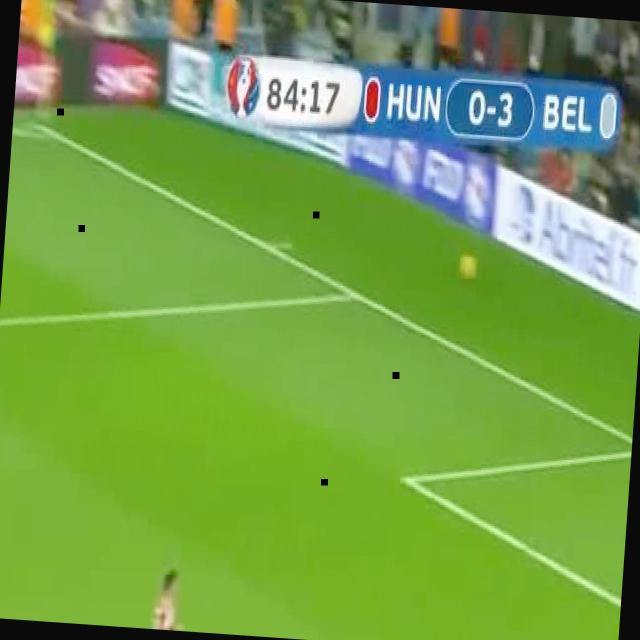ball: (459, 253, 479, 279)
player-white: (133, 564, 207, 632)
